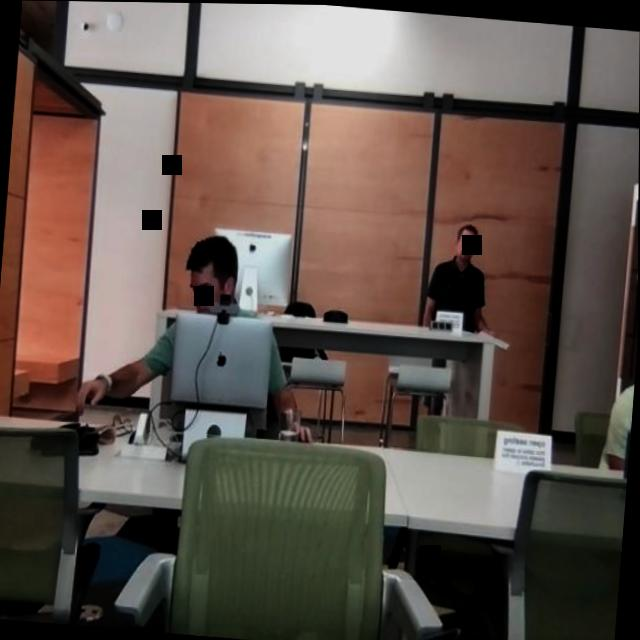NO-Mask: (453, 224, 481, 264)
